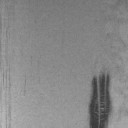oxide scale of plate system: (86, 70, 114, 128)
